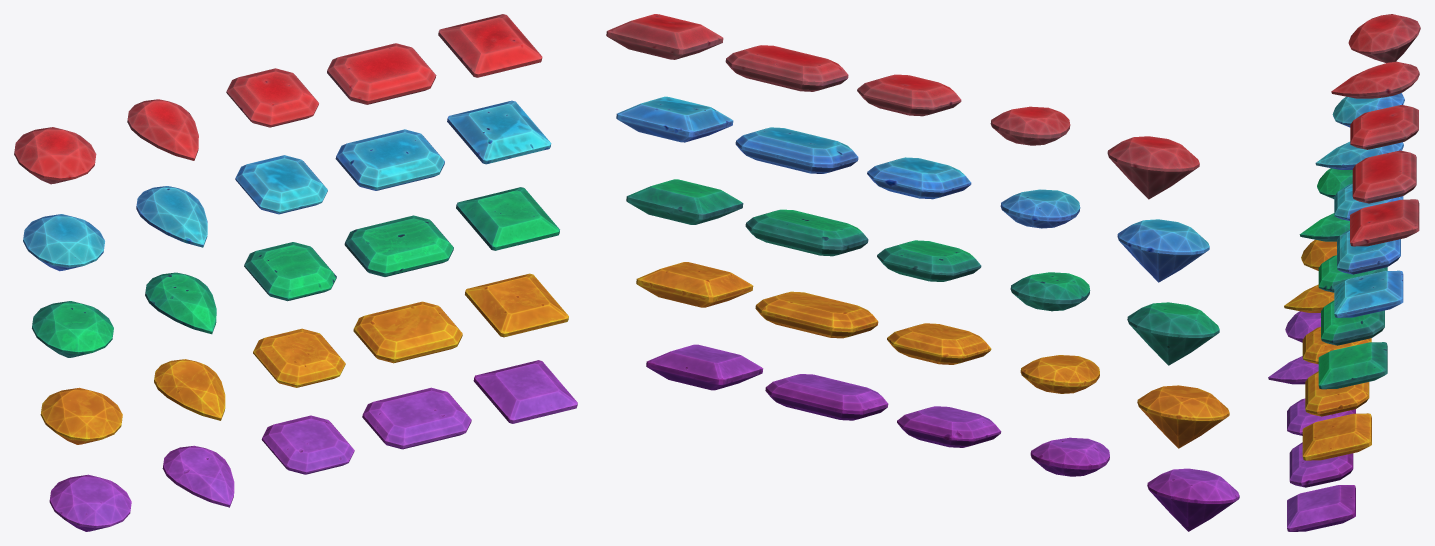
Rendered from Gemstones.gltf.
The picture shows the model from 3 angles, left to right: view 1: azimuth 30°, elevation 25°; view 2: azimuth 150°, elevation 25°; view 3: azimuth 270°, elevation 25°; orthographic projection. The views are drawn at different scales.
Parts seen in each view (by area): view 1: Gemstone_04, Gemstone_04.004, Gemstone_04.001, Gemstone_04.002, Gemstone_04.003, Gemstone_05.004, Gemstone_05, Gemstone_05.003, Gemstone_05.001, Gemstone_05.002, Gemstone_03.003, Gemstone_03.001 (+13 smaller); view 2: Gemstone_04.002, Gemstone_04.001, Gemstone_04, Gemstone_04.004, Gemstone_04.003, Gemstone_01.002, Gemstone_01.001, Gemstone_01.003, Gemstone_01.004, Gemstone_01, Gemstone_05, Gemstone_05.003 (+13 smaller); view 3: Gemstone_04.004, Gemstone_05.001, Gemstone_05.004, Gemstone_05.002, Gemstone_05.003, Gemstone_05, Gemstone_01.004, Gemstone_03.004, Gemstone_02.004, Gemstone_04.003, Gemstone_04.002, Gemstone_04.001 (+13 smaller).
Boxes of the visible parts, x1,y1,x2,y2 form: Gemstone_04: (362, 387, 471, 449); Gemstone_04.004: (327, 43, 436, 104); Gemstone_04.001: (353, 301, 462, 363); Gemstone_04.002: (344, 215, 453, 276); Gemstone_04.003: (335, 129, 444, 190); Gemstone_05.004: (438, 14, 542, 77); Gemstone_05: (473, 360, 577, 423); Gemstone_05.003: (447, 100, 551, 164); Gemstone_05.001: (465, 273, 568, 337); Gemstone_05.002: (456, 187, 559, 250); Gemstone_03.003: (235, 155, 327, 214); Gemstone_03.001: (253, 328, 345, 387); Gemstone_04.002: (745, 209, 868, 256); Gemstone_04.001: (755, 291, 878, 338); Gemstone_04: (765, 374, 888, 420); Gemstone_04.004: (725, 45, 848, 91); Gemstone_04.003: (735, 127, 858, 173); Gemstone_01.002: (1127, 302, 1219, 365); Gemstone_01.001: (1137, 385, 1229, 448); Gemstone_01.003: (1117, 219, 1209, 282); Gemstone_01.004: (1107, 136, 1199, 199); Gemstone_01: (1147, 468, 1239, 531); Gemstone_05: (646, 344, 763, 390); Gemstone_05.003: (616, 96, 733, 142); Gemstone_04.004: (1352, 150, 1416, 203); Gemstone_05.001: (1302, 413, 1371, 460); Gemstone_05.004: (1350, 199, 1419, 246); Gemstone_05.002: (1318, 342, 1387, 389); Gemstone_05.003: (1334, 270, 1403, 317); Gemstone_05: (1287, 485, 1355, 531); Gemstone_01.004: (1348, 14, 1420, 62); Gemstone_03.004: (1350, 105, 1418, 149); Gemstone_02.004: (1331, 61, 1419, 98); Gemstone_04.003: (1337, 229, 1400, 274); Gemstone_04.002: (1321, 300, 1384, 345); Gemstone_04.001: (1305, 371, 1369, 416).
Size of the model in its own units: 6.58 by 4.66 by 1.93.
Materials: 5 (5 with a texture image).
